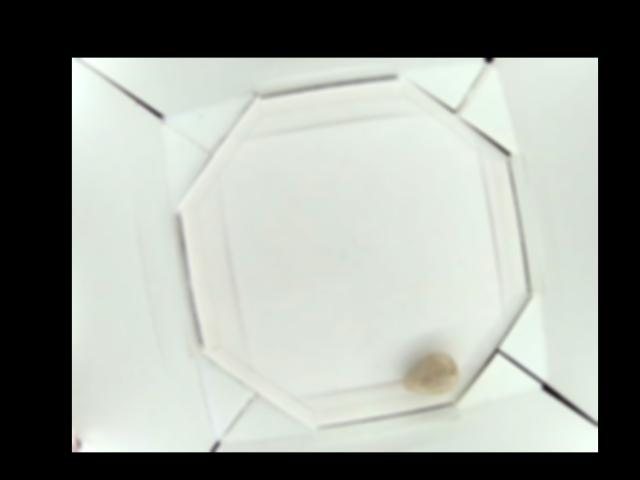Pebble: (399, 351, 458, 393)
